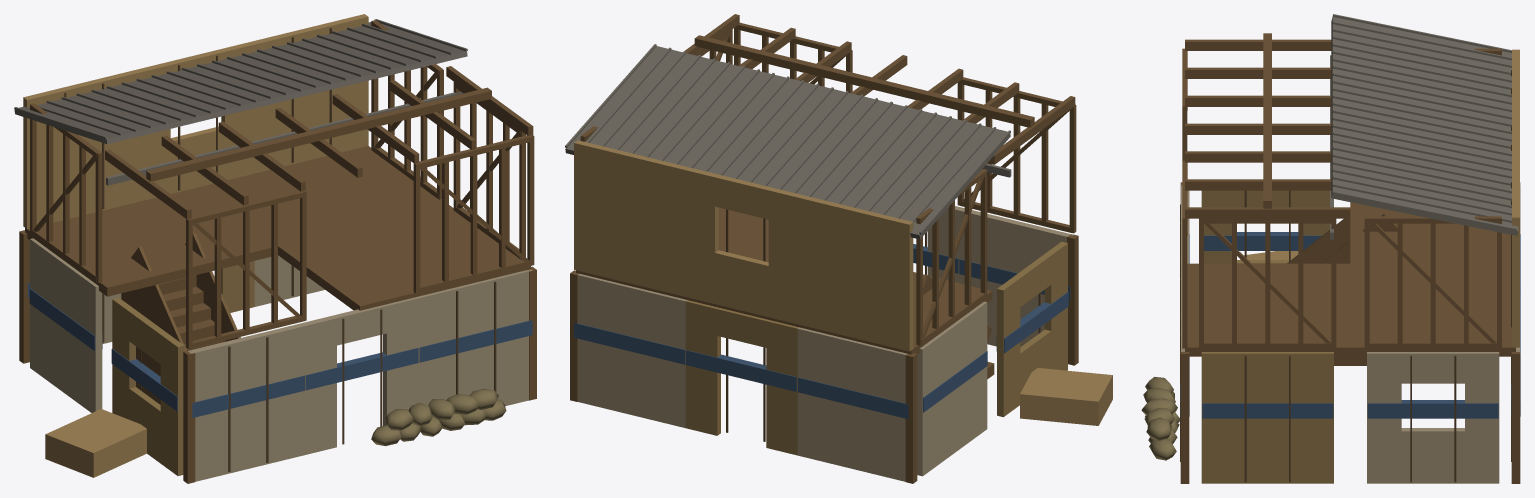
File: bldg_wood_unfinished.glb
The picture shows the model from 3 angles, left to right: view 1: azimuth 30°, elevation 25°; view 2: azimuth 150°, elevation 25°; view 3: azimuth 270°, elevation 25°; orthographic projection. The views are drawn at different scales.
Parts seen in each view (by area): view 1: WallPanel_Finished (×11), Deck (×2), WallPanel_Frame (×5), RoofDeck, RoofPanel_Joists, RoofPanel_Sloped, StairFlight, Bldg_WoodUnfinished, CornerPost (×3), SandbagBasePanel; view 2: WallPanel_Finished (×10), RoofDeck, WallPanel_Frame (×3), RoofPanel_Sloped, RoofPanel_Joists, Deck (×2), Bldg_WoodUnfinished, CornerPost (×3); view 3: WallPanel_Finished (×6), Deck (×2), RoofDeck, RoofPanel_Sloped, RoofPanel_Joists, WallPanel_Frame (×4), CornerPost (×2), SandbagBasePanel, StairFlight.
Boxes of the visible parts, x1,y1,x2,y2 form: WallPanel_Finished (×11): (23,14,532,481); Deck (×2): (25,146,530,310); WallPanel_Frame (×5): (30,20,534,349); RoofDeck: (14,22,467,144); RoofPanel_Joists: (105,66,533,219); RoofPanel_Sloped: (14,19,467,185); StairFlight: (121,233,240,404); Bldg_WoodUnfinished: (45,409,146,477); CornerPost (×3): (19,230,536,483); SandbagBasePanel: (371,388,506,446); WallPanel_Finished (×10): (574,140,1073,481); RoofDeck: (565,46,1010,239); WallPanel_Frame (×3): (734,22,1076,345); RoofPanel_Sloped: (565,44,1011,234); RoofPanel_Joists: (683,14,1075,164); Deck (×2): (576,207,992,354); Bldg_WoodUnfinished: (1020,368,1112,425); CornerPost (×3): (570,234,1078,483); WallPanel_Finished (×6): (1201,49,1519,483); Deck (×2): (1185,202,1515,356); RoofDeck: (1331,17,1518,235); RoofPanel_Sloped: (1330,14,1516,239); RoofPanel_Joists: (1185,33,1350,218); WallPanel_Frame (×4): (1182,48,1501,348); CornerPost (×2): (1180,350,1520,483); SandbagBasePanel: (1141,376,1179,460); StairFlight: (1287,213,1419,365).
Size of the model in its own units: 9.21 by 5.91 by 6.88.
